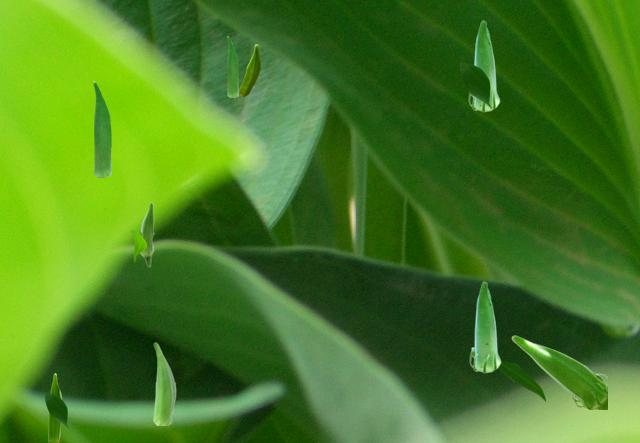okra: (511, 335, 606, 408), (468, 20, 499, 111), (469, 281, 500, 372), (153, 342, 175, 424), (93, 81, 110, 176), (239, 44, 259, 95), (48, 373, 61, 441), (140, 202, 153, 266), (227, 36, 237, 96)
